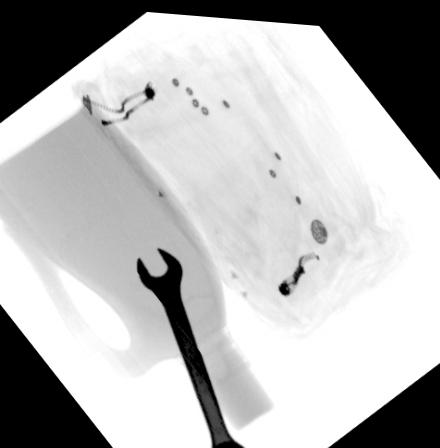Wrench: (134, 241, 247, 448)
